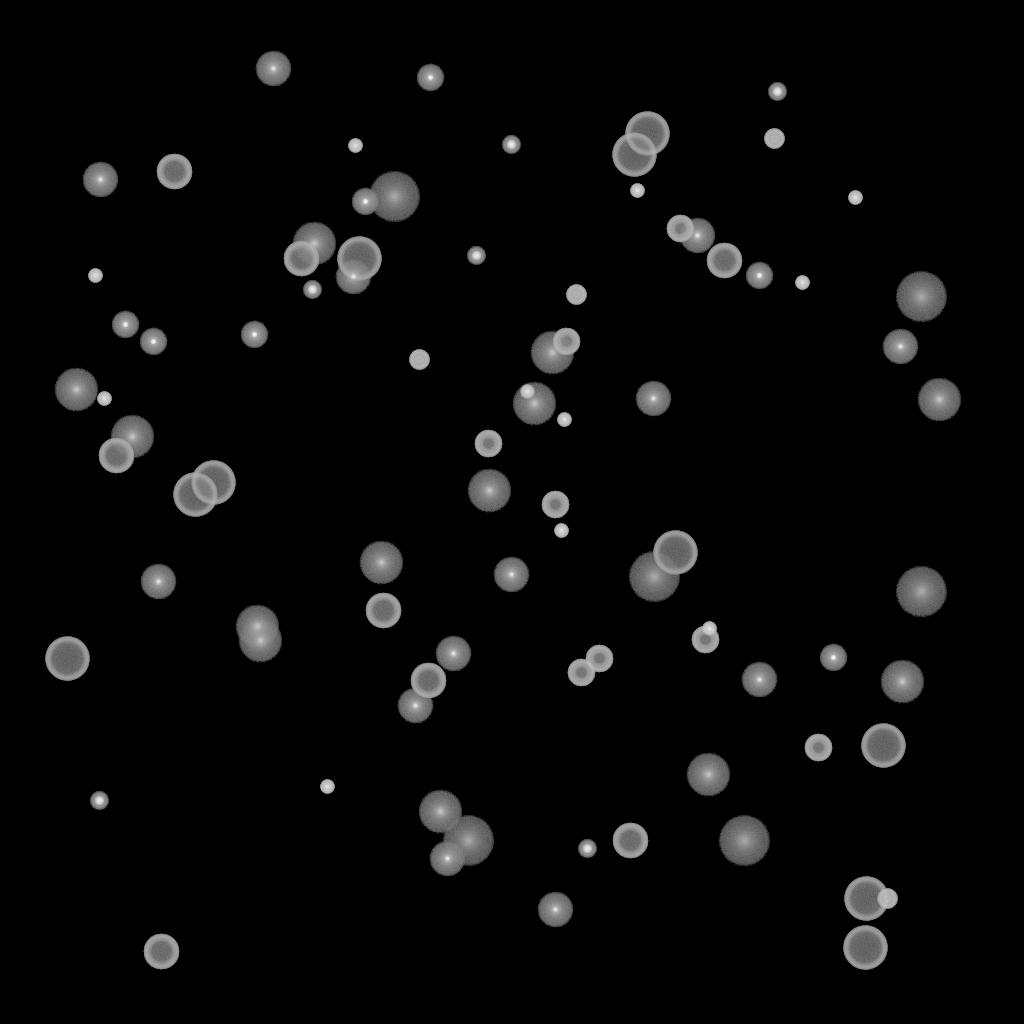depth:-10: (240, 321, 268, 349), (819, 644, 847, 672), (351, 188, 379, 216), (111, 311, 139, 339), (416, 64, 444, 92), (139, 328, 167, 356), (745, 262, 773, 290)
depth:-20: (578, 840, 596, 858), (303, 281, 321, 299), (502, 136, 520, 154), (467, 247, 485, 265), (90, 792, 108, 810), (768, 83, 786, 101)
depth:-30: (88, 269, 102, 283), (702, 622, 716, 636), (348, 139, 362, 153), (97, 392, 111, 406), (554, 524, 568, 538), (848, 191, 862, 205), (630, 184, 644, 198), (557, 413, 571, 427), (320, 780, 334, 794), (520, 385, 534, 399), (795, 276, 809, 290)
depth:-40: (877, 889, 897, 909), (409, 350, 429, 370), (764, 129, 784, 149), (566, 285, 586, 305)
depth:-50: (567, 659, 595, 687), (691, 626, 719, 654), (804, 734, 832, 762), (585, 645, 613, 673), (541, 491, 569, 519), (666, 215, 694, 243), (474, 430, 502, 458), (552, 328, 580, 356)
depth:-60: (98, 438, 134, 474), (410, 663, 446, 699), (156, 154, 192, 190), (706, 243, 742, 279), (612, 823, 648, 859), (143, 934, 179, 970), (365, 593, 401, 629), (283, 241, 319, 277)
depth:-70: (625, 112, 669, 156), (653, 531, 697, 575), (337, 237, 381, 281), (45, 637, 89, 681), (612, 133, 656, 177), (191, 461, 235, 505), (173, 473, 217, 517), (843, 926, 887, 970), (844, 877, 888, 921), (861, 724, 905, 768)
depth:0: (741, 662, 777, 698), (255, 51, 291, 87), (635, 381, 671, 417), (679, 218, 715, 254), (140, 564, 176, 600), (882, 329, 918, 365), (493, 557, 529, 593), (435, 636, 471, 672), (335, 259, 371, 295), (397, 688, 433, 724), (429, 841, 465, 877), (82, 162, 118, 198), (537, 892, 573, 928)
depth:10: (467, 469, 511, 513), (880, 660, 924, 704), (512, 382, 556, 426), (235, 605, 279, 649), (686, 753, 730, 797), (530, 331, 574, 375), (110, 415, 154, 459), (292, 222, 336, 266), (359, 541, 403, 585), (418, 790, 462, 834), (54, 368, 98, 412), (917, 378, 961, 422), (238, 619, 282, 663)
depth:20: (895, 567, 947, 617), (368, 172, 420, 222), (628, 552, 680, 602), (895, 272, 947, 322), (442, 816, 494, 866), (718, 816, 770, 866)
